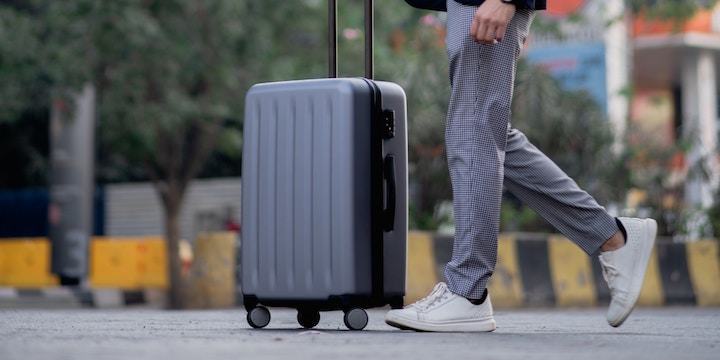luggage: (236, 3, 406, 329)
